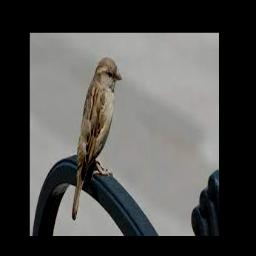Sparrow: (71, 57, 121, 220)
